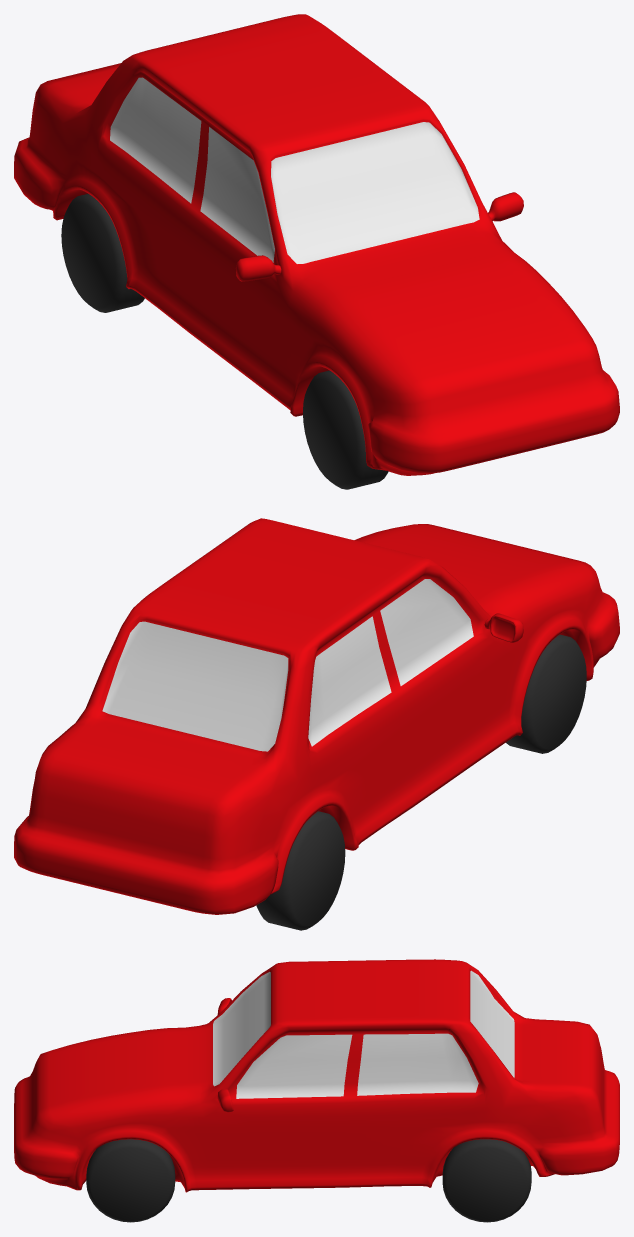
Rendered from Car.fbx.
3 renders of one model, top to bottom at view 1: azimuth 30°, elevation 25°; view 2: azimuth 150°, elevation 25°; view 3: azimuth 270°, elevation 25°, orthographic. The views are drawn at different scales.
Parts seen in each view (by area): view 1: my car, Circle, Mirrors; view 2: my car, Circle, Mirrors; view 3: my car, Circle, Mirrors.
Part boxes in pixels (x1,y1,x2,y2): my car: [14, 14, 619, 475]; Circle: [61, 193, 388, 489]; Mirrors: [236, 192, 523, 281]; my car: [14, 518, 619, 914]; Circle: [256, 634, 586, 930]; Mirrors: [484, 613, 523, 642]; my car: [14, 959, 619, 1192]; Circle: [86, 1139, 531, 1222]; Mirrors: [217, 998, 233, 1112].
Size of the model in its own units: 268 by 236 by 671.
